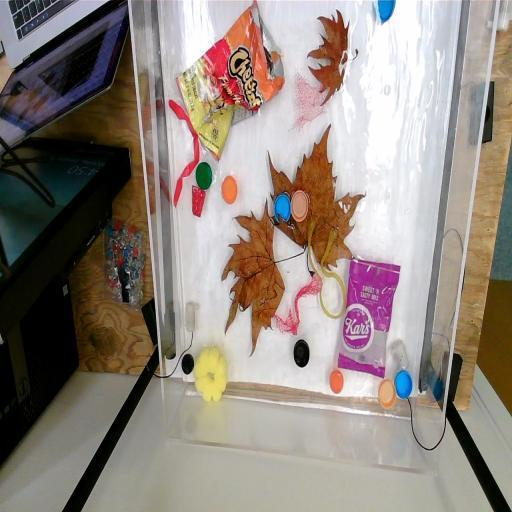Bottle Cap: (290, 336, 314, 378), (374, 374, 398, 412), (288, 185, 310, 225), (271, 186, 293, 224), (394, 365, 414, 403), (194, 159, 214, 196), (219, 170, 239, 206), (326, 367, 346, 399), (376, 0, 398, 27), (180, 352, 198, 377)
Cone Cap: (186, 182, 208, 222)
Leaf: (268, 135, 360, 270), (220, 200, 286, 357), (307, 7, 359, 106)
Netting: (273, 269, 322, 343), (290, 65, 328, 137)
Plastic Bag: (179, 2, 284, 160), (337, 255, 402, 383)
Plastic Strand: (306, 217, 348, 321), (167, 96, 202, 215)
Sponge: (192, 344, 230, 408)
